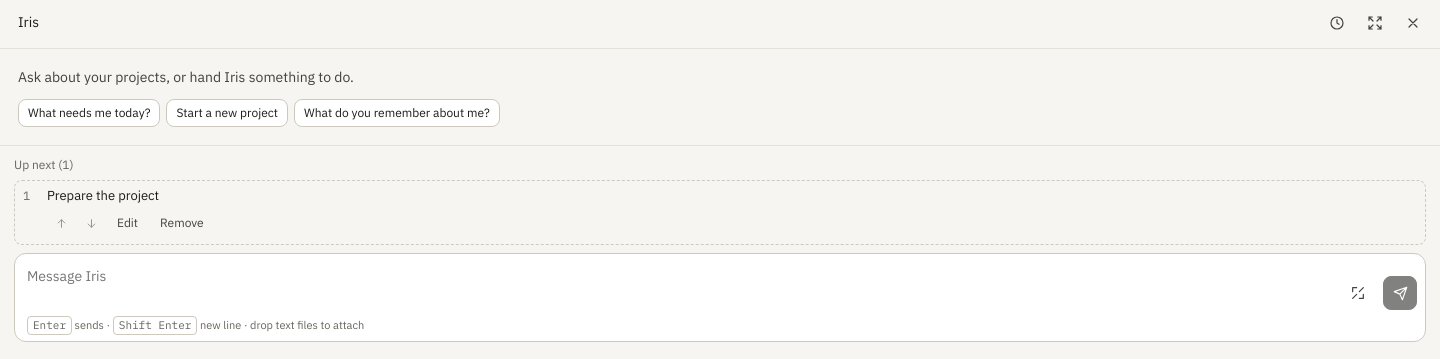
it: conversation › does not let an old poll undo a confirmed cancellation
Click the button with aria-label "Remove queued message: Prepare the project": point(182, 224) [150,210,214,238]
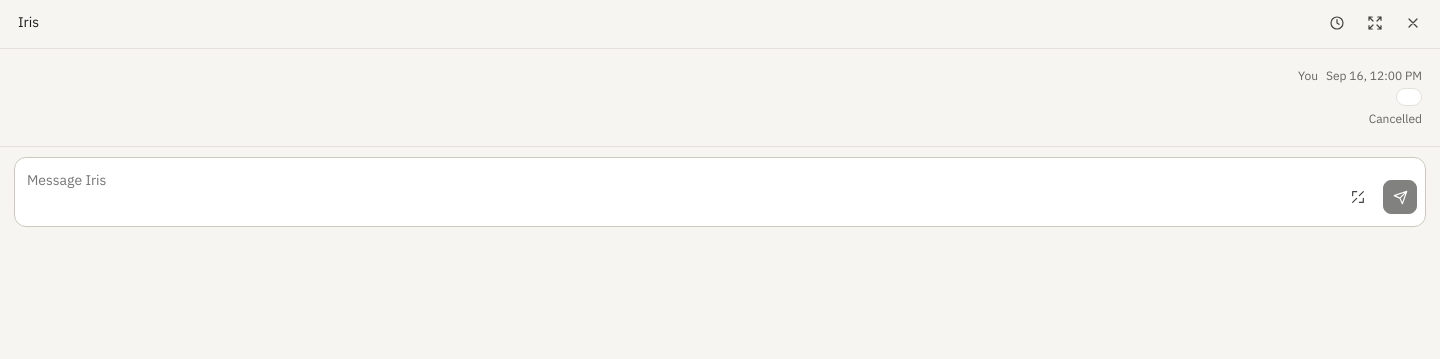
Now the text "Cancelled" is shown, box [1369,110,1422,128]
